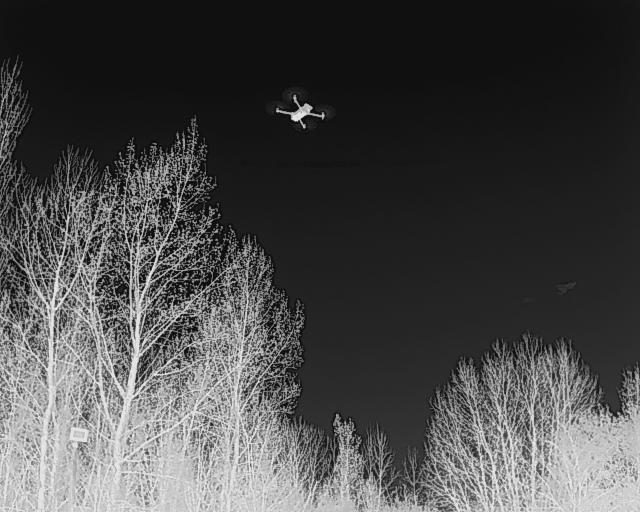drone: (262, 84, 338, 135)
